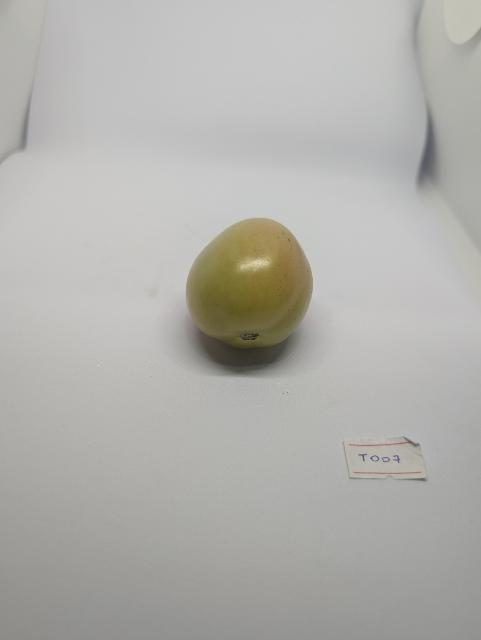breaker: (183, 214, 317, 354)
